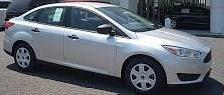Cars: (5, 5, 212, 95)
